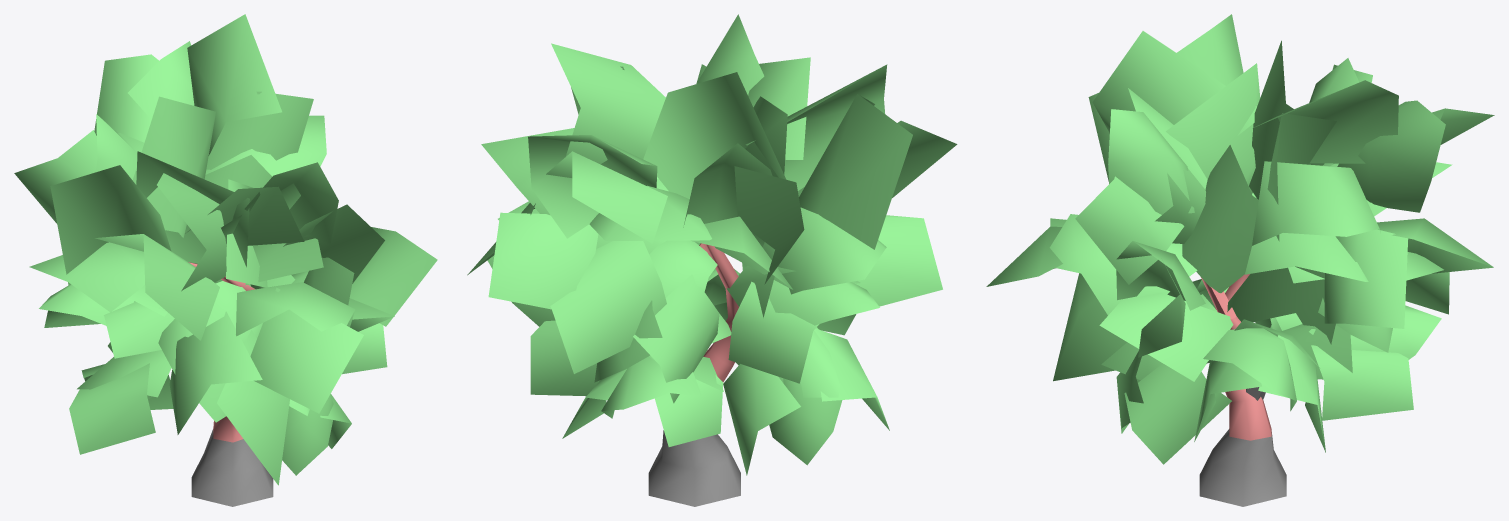
File: Oren_Darkelf_tree12.gltf
3 views of the same model, side by side, from view 1: azimuth 30°, elevation 25°; view 2: azimuth 150°, elevation 25°; view 3: azimuth 270°, elevation 25° (orthographic). The views are drawn at different scales.
Parts seen in each view (by area): view 1: Oren_Darkelf_tree12; view 2: Oren_Darkelf_tree12; view 3: Oren_Darkelf_tree12.
Boxes of the visible parts, x1,y1,x2,y2 form: Oren_Darkelf_tree12: (14,14,437,506); Oren_Darkelf_tree12: (467,14,957,506); Oren_Darkelf_tree12: (986,14,1494,506).
Bounding box in the file's own units: 7.27 × 8.06 × 8.41.
